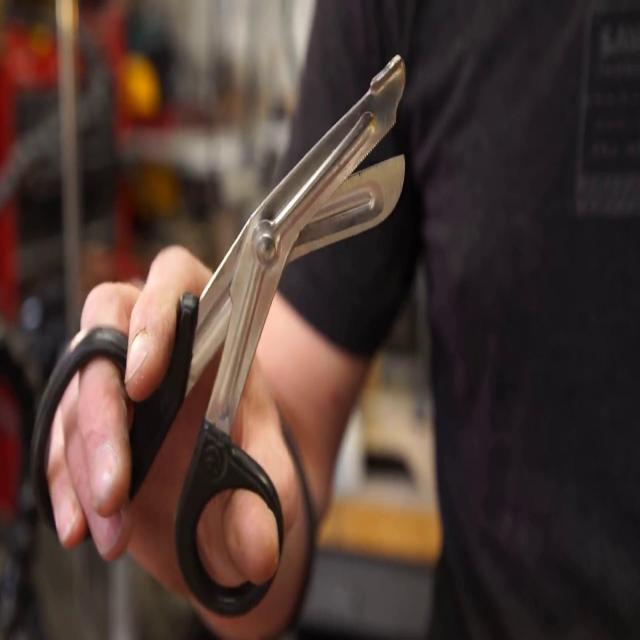scissor: (31, 54, 406, 620)
